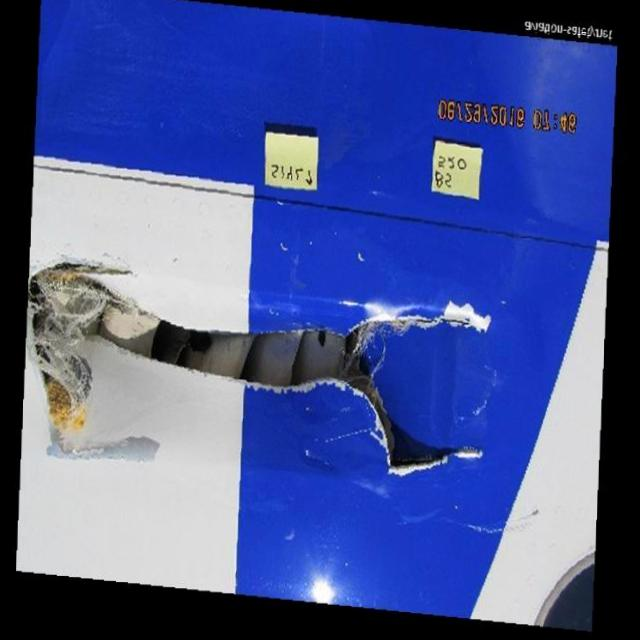crack: (388, 303, 488, 335)
